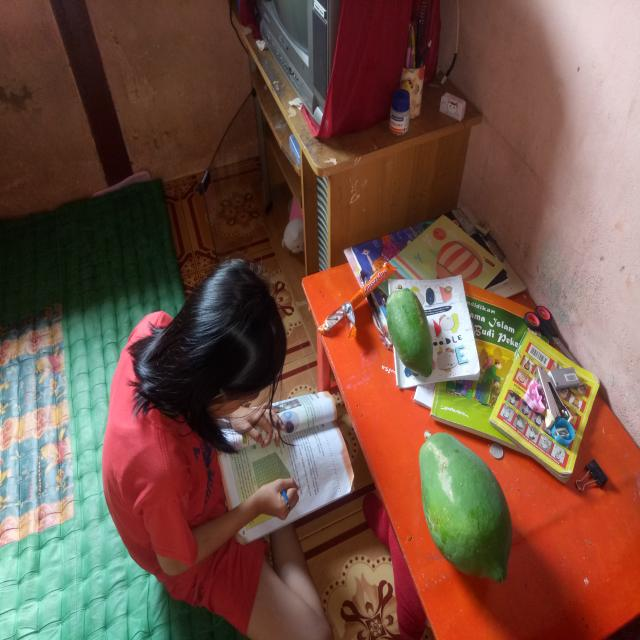Pepaya unrippen: (415, 419, 522, 594), (389, 289, 441, 382)
